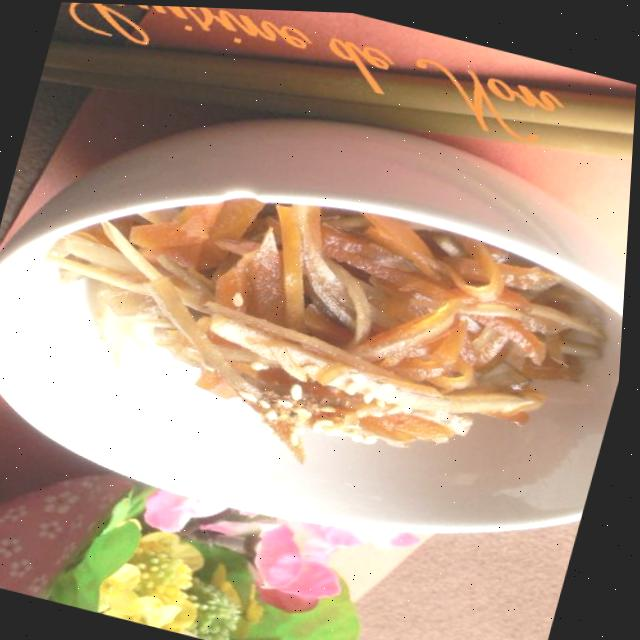蔬菜料理: (0, 13, 639, 599)
